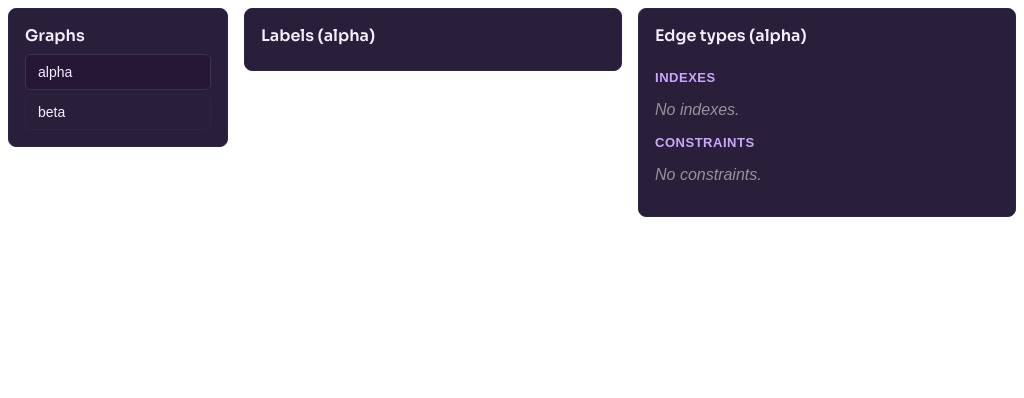
F8: cached graphs do not refetch on re-select
Expected: the button "alpha" is shown, [25,54,211,90]
# Switch to beta — should be served from cache. No new client call.
Click the button "beta" at (118, 112), box [25,94,211,130]
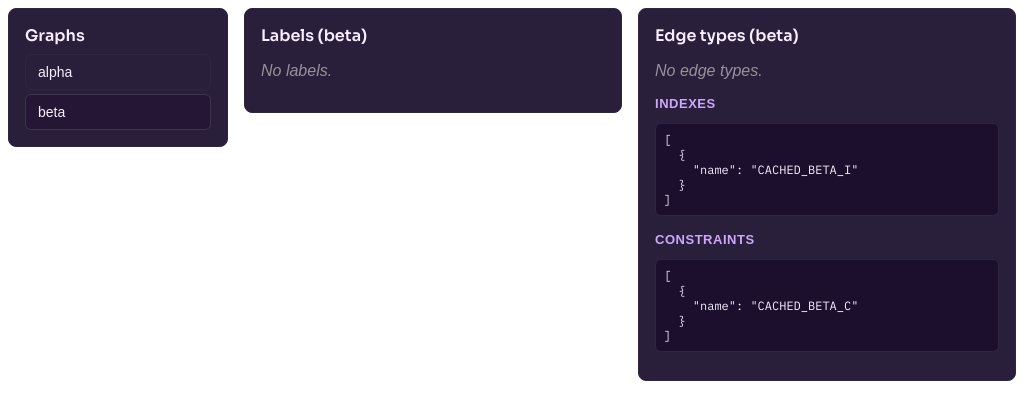
Expected: the text "CACHED_BETA_I" is shown, [664,132,858,207]
